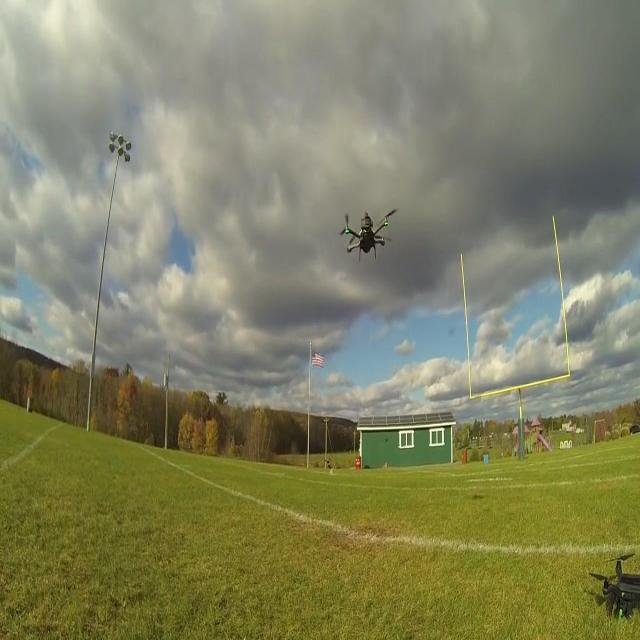drone: (341, 205, 398, 265)
